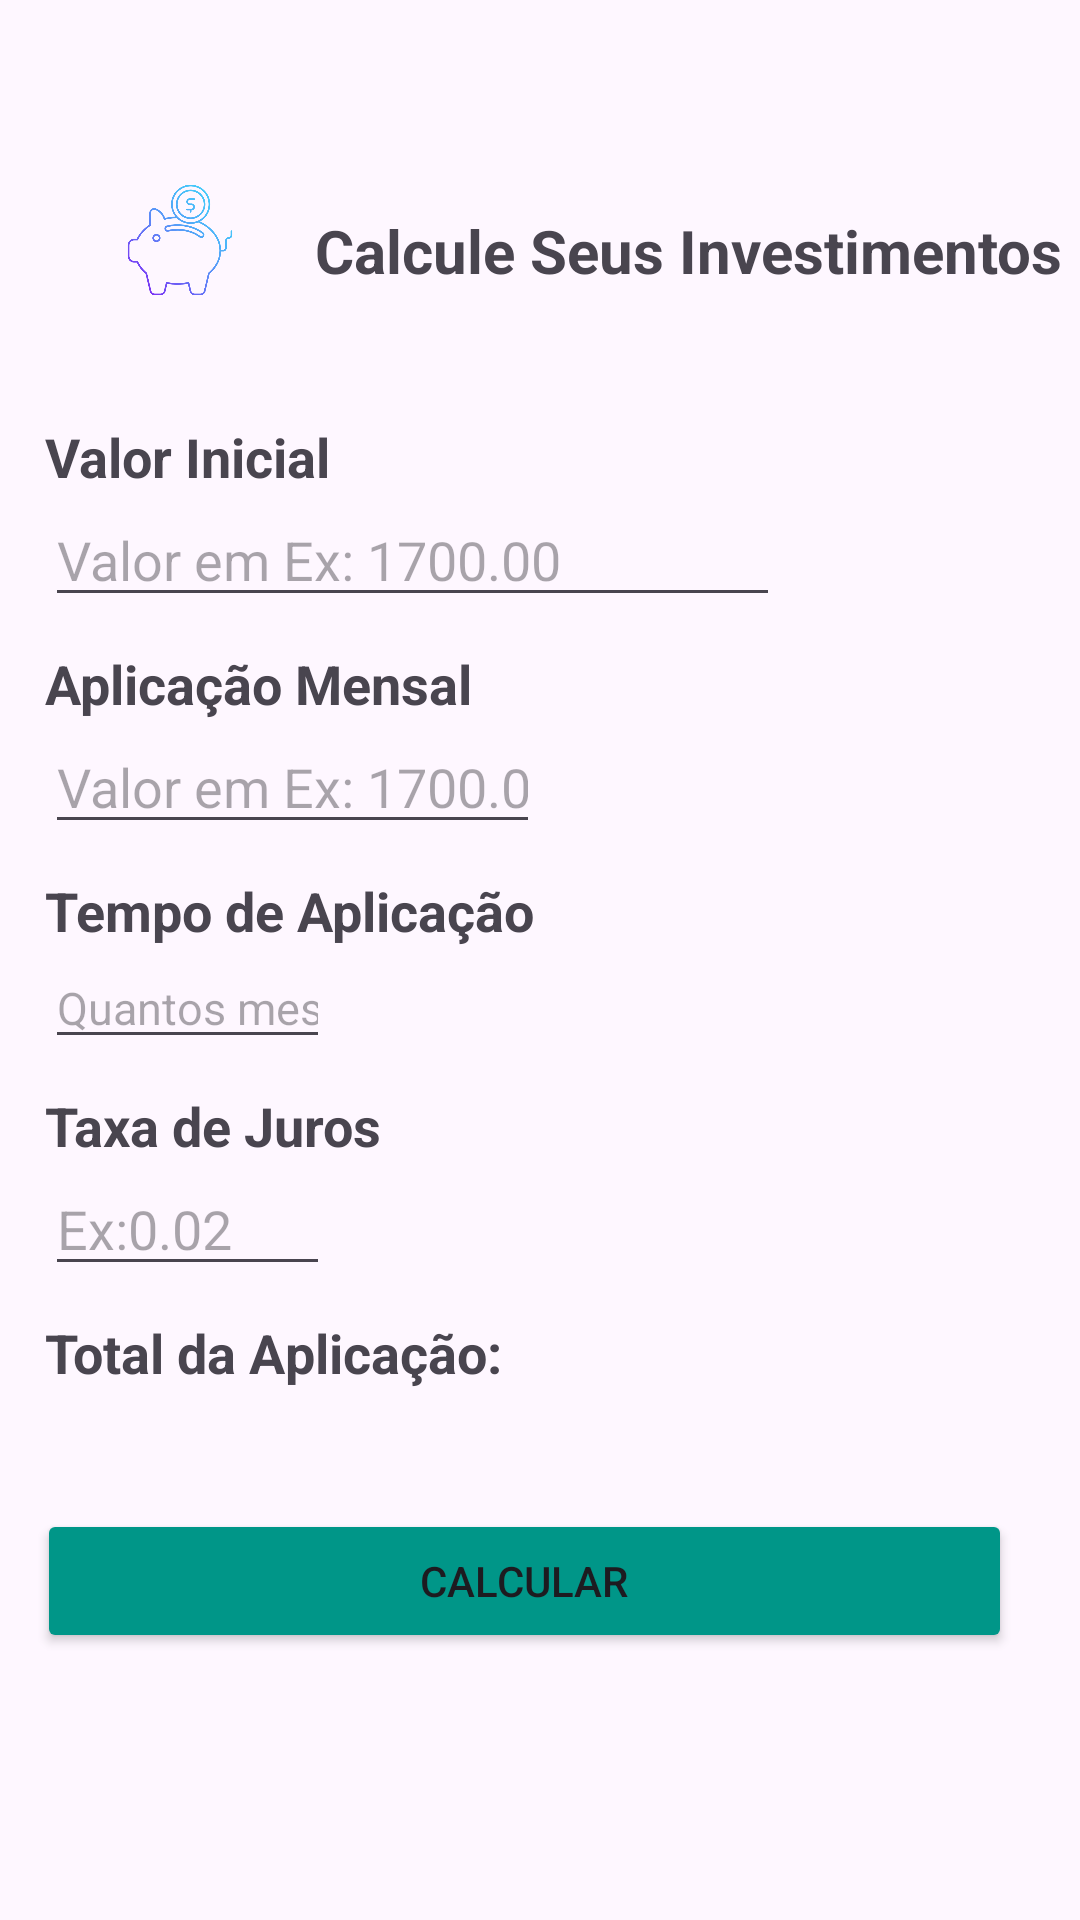

Icons on this 1080 x 1920 Android screen, each with its box as (x1, y1, x2, y2):
poupanca: (128, 185, 232, 295)
